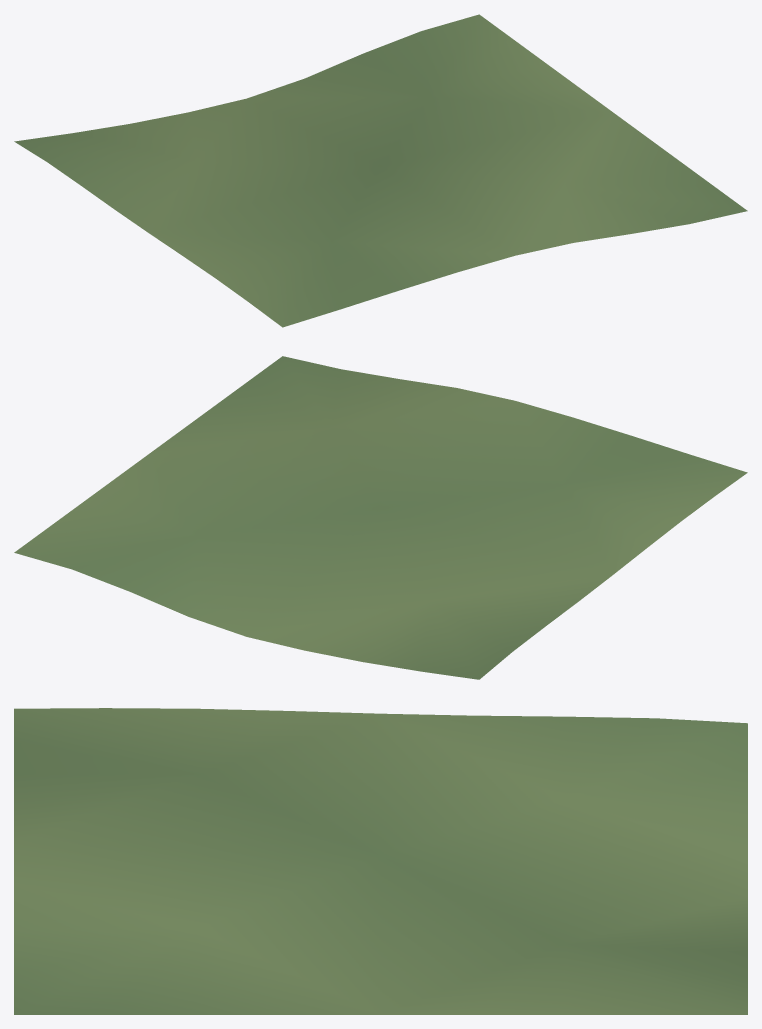
Rendered from Terrain-2-3-4.glb.
3 renders of one model, top to bottom at view 1: azimuth 30°, elevation 25°; view 2: azimuth 150°, elevation 25°; view 3: azimuth 270°, elevation 25°, orthographic. The views are drawn at different scales.
Visible parts, largest first — view 1: Terrain-2-3-4; view 2: Terrain-2-3-4; view 3: Terrain-2-3-4.
Part boxes in pixels (x1,y1,x2,y2): Terrain-2-3-4: (14,14,747,327); Terrain-2-3-4: (14,356,747,679); Terrain-2-3-4: (14,708,747,1014).
Bounding box in the file's own units: 6 × 0.4863 × 6.
